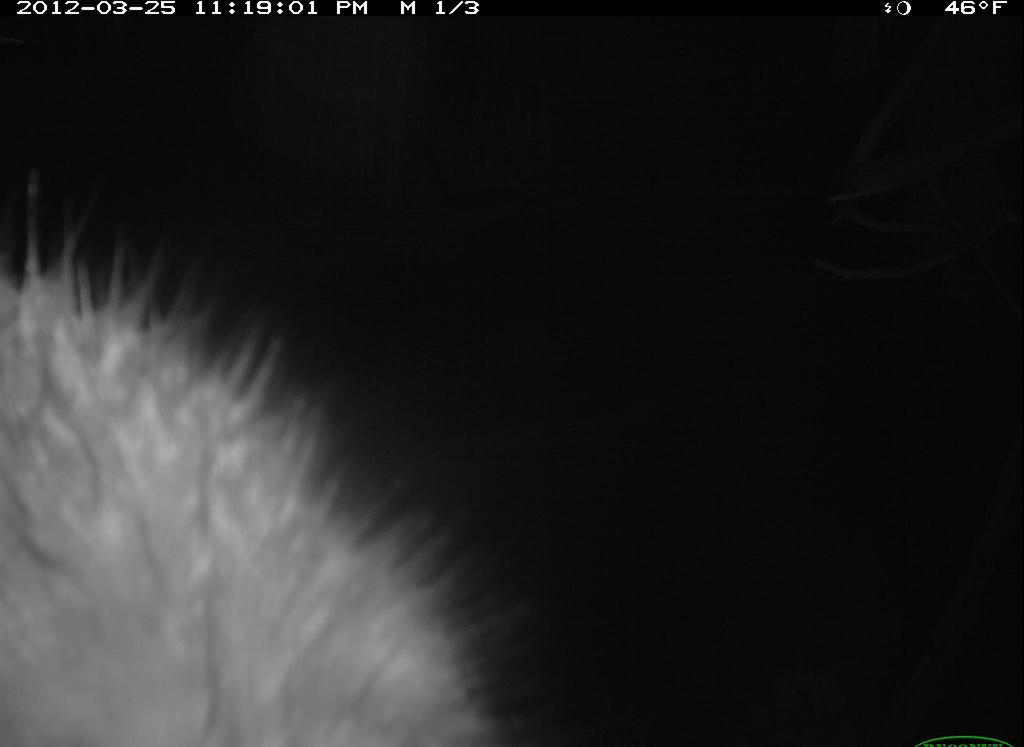raccoon: (4, 175, 537, 742)
